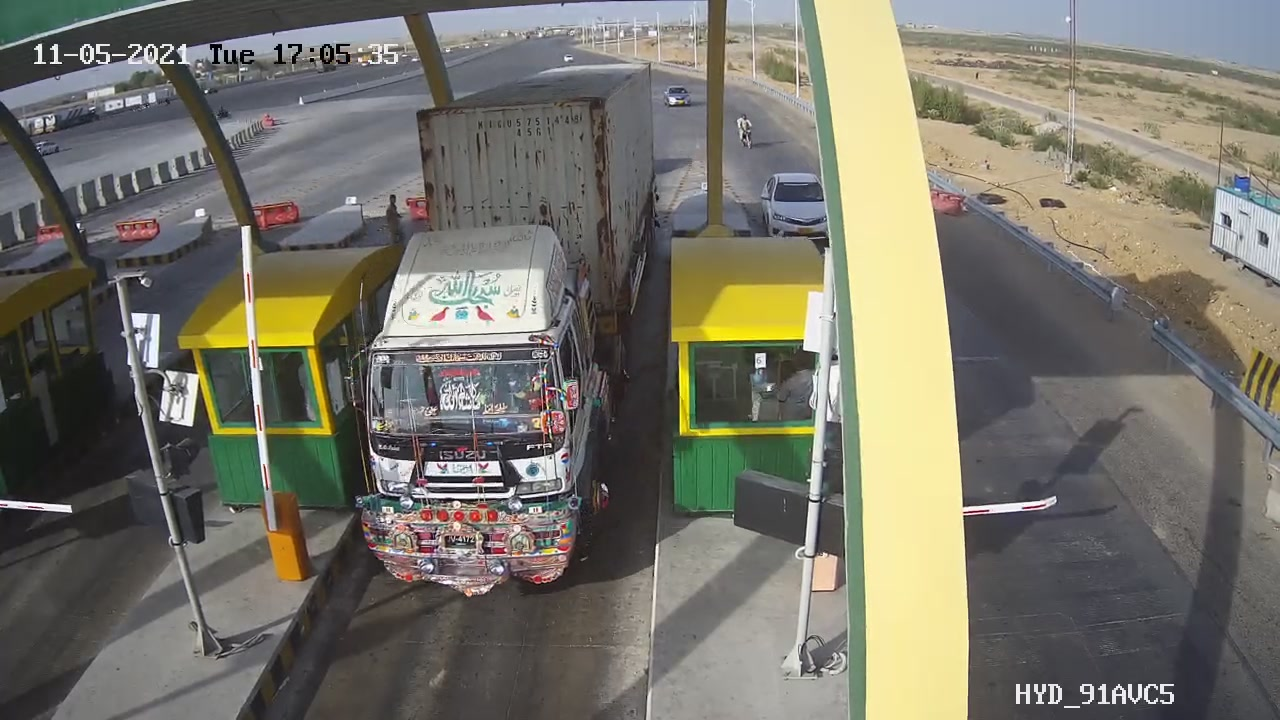F6: (330, 55, 683, 620)
